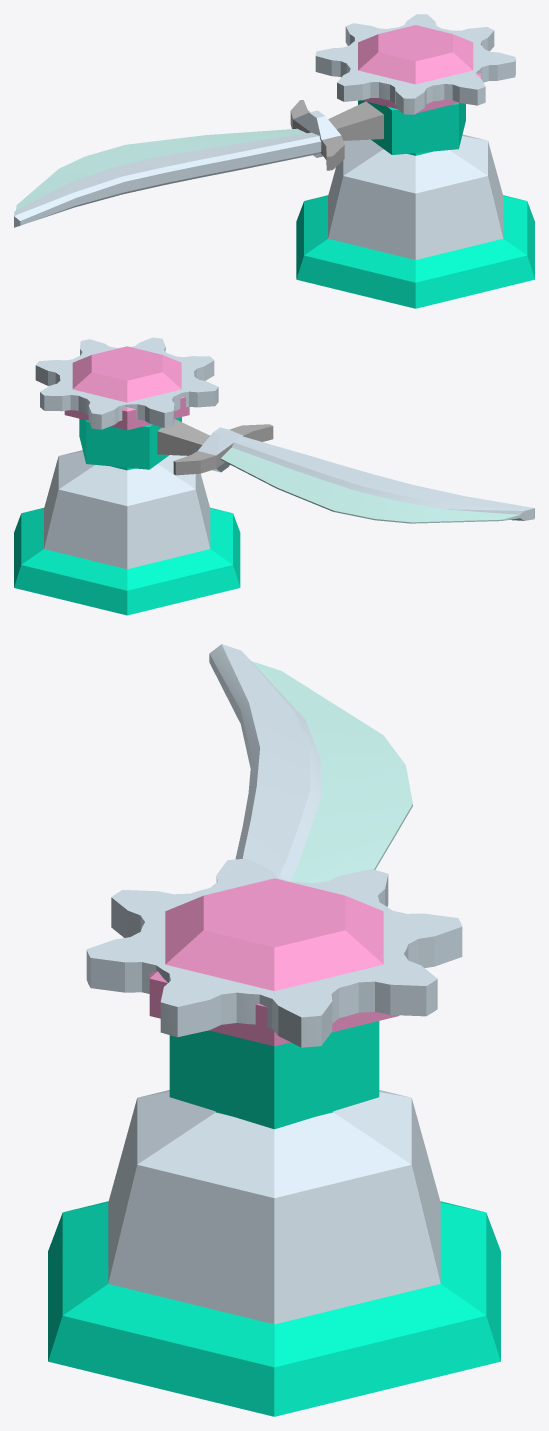
The model's file is Spining_Blade.fbx.
3 renders of one model, top to bottom at view 1: azimuth 30°, elevation 25°; view 2: azimuth 150°, elevation 25°; view 3: azimuth 270°, elevation 25°, orthographic. The views are drawn at different scales.
Parts seen in each view (by area): view 1: SB_Base, SB_Blade; view 2: SB_Base, SB_Blade; view 3: SB_Base, SB_Blade.
Part boxes in pixels (bbox=[...]): SB_Base: bbox=[296, 14, 534, 308]; SB_Blade: bbox=[14, 100, 465, 227]; SB_Base: bbox=[14, 337, 240, 615]; SB_Blade: bbox=[79, 417, 534, 523]; SB_Base: bbox=[48, 858, 500, 1416]; SB_Blade: bbox=[169, 644, 412, 1129].
Size of the model in its own units: 281 by 104 by 108.
